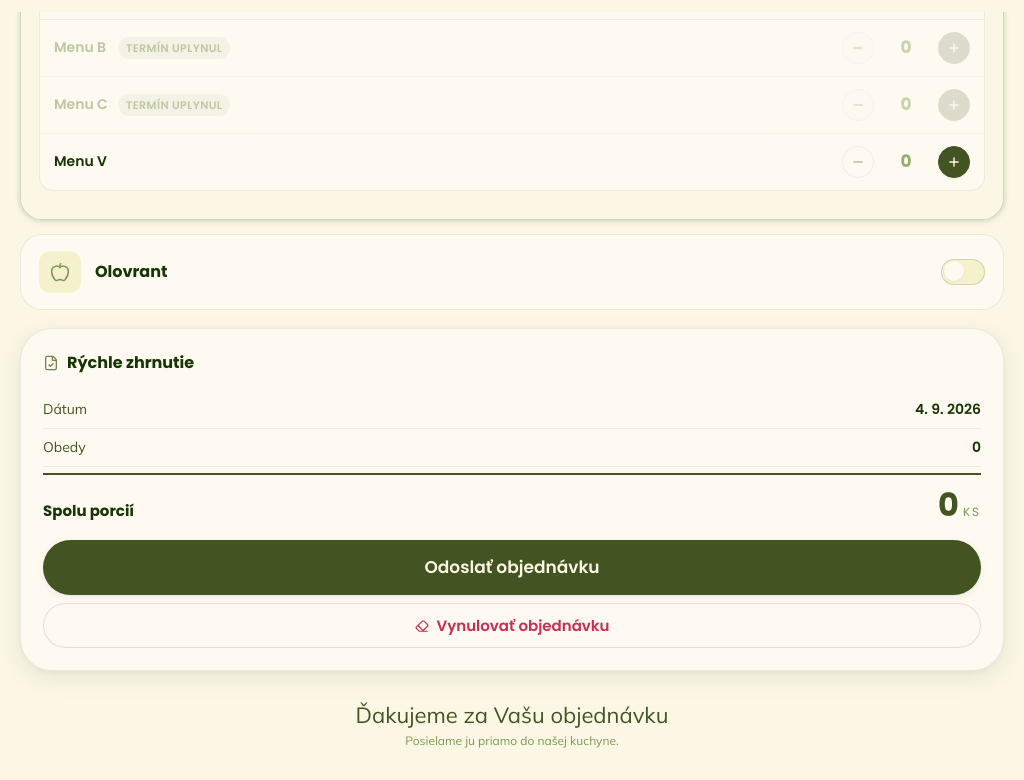
OrderPage Logic & Triggers › shows the server's specific reason (which meal, which deadline) when submit fails after deadline
This screenshot has width=1024, height=780.
(page scrolled)
Click the button "Odoslať objednávku" at [512, 568], box [43, 540, 981, 595]
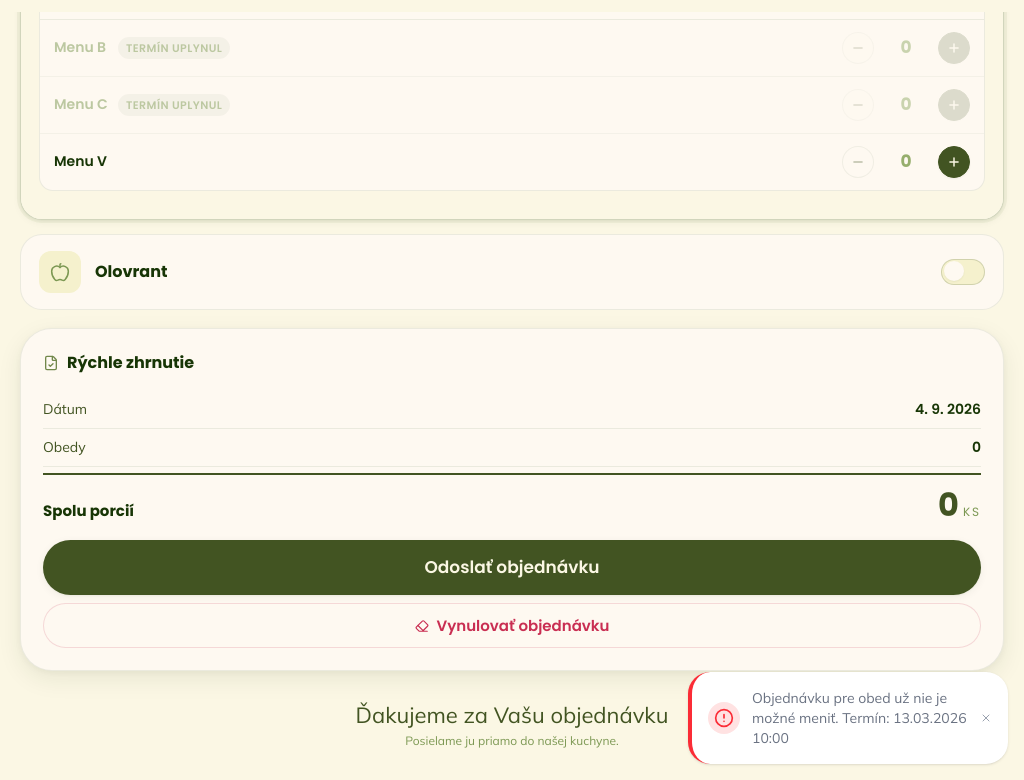
Expected: the text "Objednávku pre obed už nie je možné meniť. Termín: 13.03.2026 10:00" is shown, [752, 688, 974, 748]
